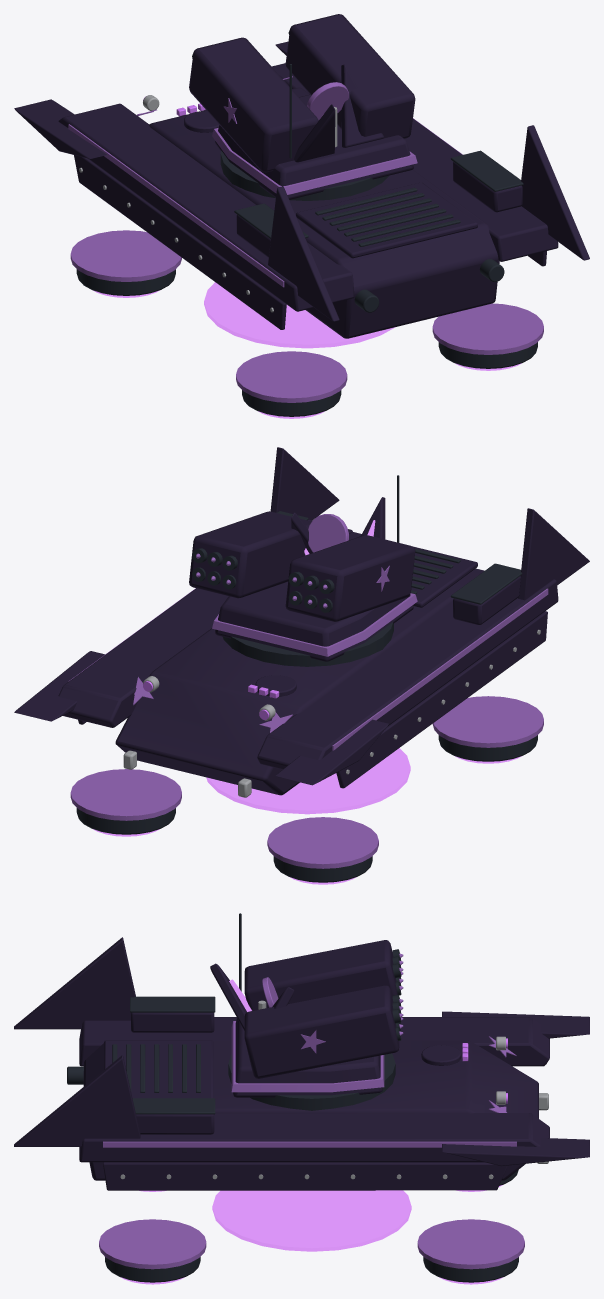
The model's file is katzen_nebelwerfer.glb.
The picture shows the model from 3 angles, top to bottom: view 1: azimuth 30°, elevation 25°; view 2: azimuth 150°, elevation 25°; view 3: azimuth 270°, elevation 25°; orthographic projection. The views are drawn at different scales.
Visible parts, largest first — view 1: hull_core, fender_-1, pod_-1, pod_1, skirt_-1, fender_1, engine_deck, pad_ring_-1_-1, belly_glow, launcher_base, pad_ring_1_-1, pad_ring_-1_1 (+17 smaller); view 2: hull_core, fender_-1, fender_1, pod_-1, pod_1, skirt_-1, launcher_base, belly_glow, pad_ring_1_1, pad_ring_-1_1, pad_ring_-1_-1, fin_-1 (+14 smaller); view 3: fender_1, hull_core, skirt_1, belly_glow, pod_1, fender_-1, pod_-1, fin_1, fin_-1, pad_ring_1_-1, pad_ring_1_1, engine_deck (+14 smaller).
Boxes of the visible parts, <box> form: hull_core: <box>149,87,499,338</box>; fender_-1: <box>58,103,354,311</box>; pod_-1: <box>189,37,318,172</box>; pod_1: <box>285,14,415,138</box>; skirt_-1: <box>74,155,286,329</box>; fender_1: <box>271,63,558,261</box>; engine_deck: <box>296,182,477,258</box>; pad_ring_-1_-1: <box>236,351,347,402</box>; belly_glow: <box>204,282,395,348</box>; launcher_base: <box>215,94,413,199</box>; pad_ring_1_-1: <box>432,303,543,354</box>; pad_ring_-1_1: <box>70,230,181,281</box>; hull_core: <box>115,568,484,795</box>; fender_-1: <box>257,579,558,769</box>; fender_1: <box>58,519,352,727</box>; pod_-1: <box>285,535,415,621</box>; pod_1: <box>189,511,311,598</box>; skirt_-1: <box>336,611,547,788</box>; launcher_base: <box>215,581,413,661</box>; belly_glow: <box>206,748,410,814</box>; pad_ring_1_1: <box>70,769,181,820</box>; pad_ring_-1_1: <box>267,817,378,868</box>; pad_ring_-1_-1: <box>432,696,543,747</box>; fin_-1: <box>518,508,589,600</box>; fender_1: <box>79,1113,549,1162</box>; hull_core: <box>83,1040,538,1180</box>; skirt_1: <box>103,1162,507,1190</box>; belly_glow: <box>212,1190,411,1251</box>; pod_1: <box>244,985,399,1078</box>; fender_-1: <box>79,1017,549,1066</box>; pod_-1: <box>244,940,397,1010</box>; fin_1: <box>14,1055,140,1146</box>; fin_-1: <box>14,937,135,1029</box>; pad_ring_1_-1: <box>99,1219,206,1269</box>; pad_ring_1_1: <box>417,1219,524,1269</box>; engine_deck: <box>104,1040,213,1098</box>.
Size of the model in its own units: 1.68 by 1.57 by 2.89.
